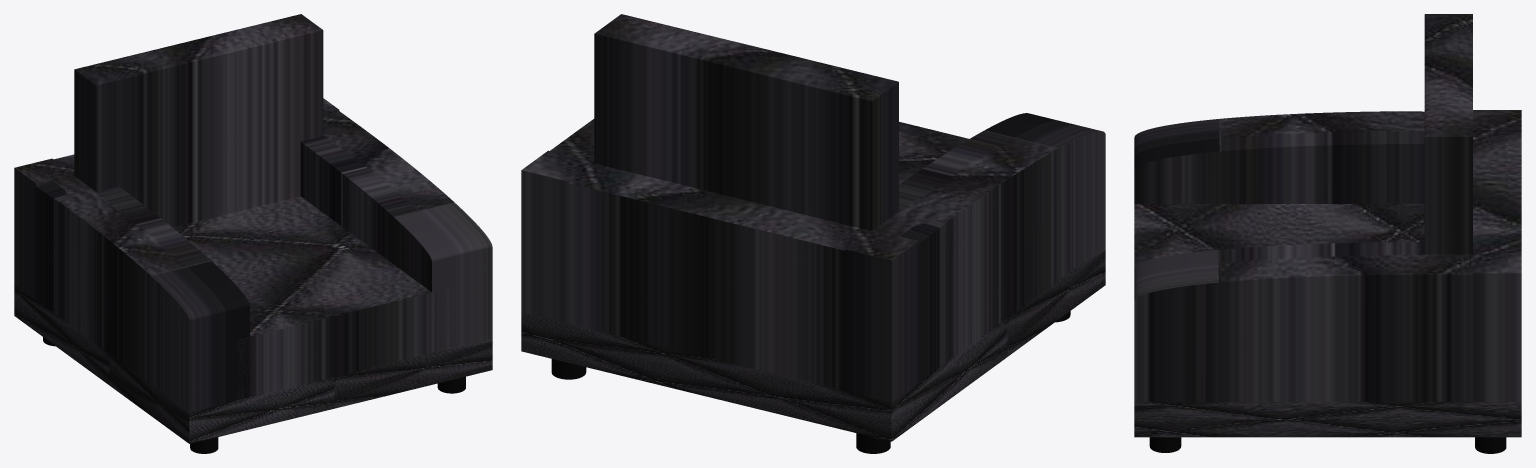
File: koltuk.fbx
3 views of the same model, side by side, from view 1: azimuth 30°, elevation 25°; view 2: azimuth 150°, elevation 25°; view 3: azimuth 270°, elevation 25° (orthographic). The views are drawn at different scales.
Parts seen in each view (by area): view 1: koltuk; view 2: koltuk; view 3: koltuk.
Boxes of the visible parts, bbox=[...] form: koltuk: bbox=[14, 14, 492, 453]; koltuk: bbox=[521, 14, 1105, 453]; koltuk: bbox=[1134, 14, 1521, 453].
Bounding box in the file's own units: 85.63 × 74.93 × 85.63.
